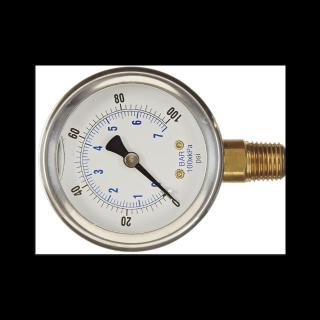gauge: (36, 66, 224, 254), (159, 111, 180, 129), (164, 191, 184, 209), (123, 152, 140, 168), (170, 196, 178, 203)
